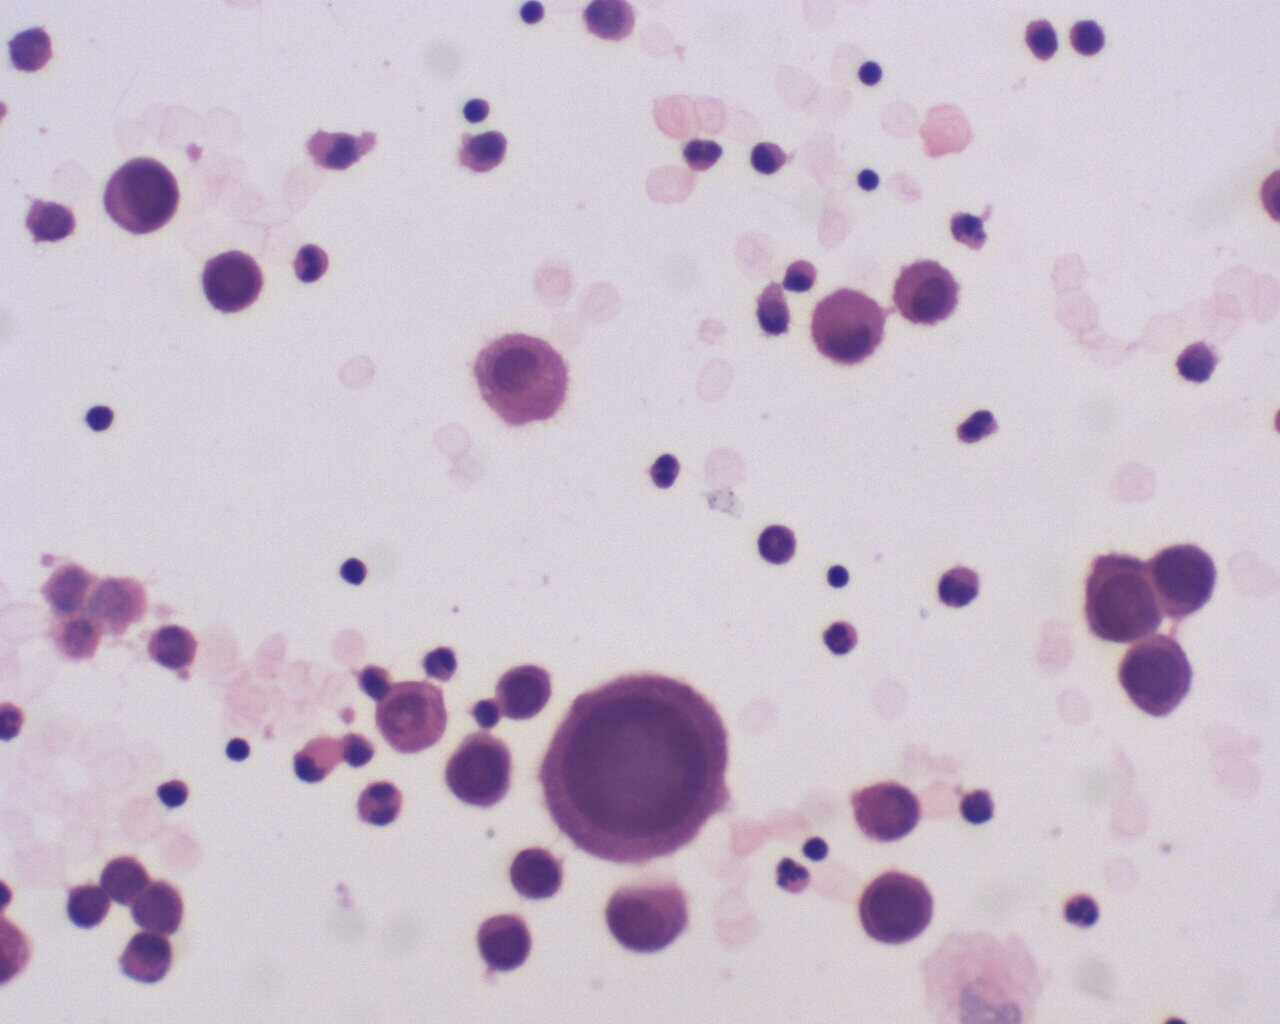ab: (540, 668, 738, 860), (1078, 549, 1169, 645), (96, 154, 184, 242), (1115, 632, 1200, 720), (600, 876, 690, 954), (855, 868, 936, 949), (1149, 536, 1216, 615), (443, 734, 514, 808), (197, 247, 269, 319)
lymph: (335, 550, 380, 596), (80, 399, 123, 441), (853, 51, 890, 90), (823, 560, 862, 598), (222, 730, 258, 770), (512, 1, 550, 29)
meso: (467, 327, 572, 433), (804, 281, 888, 372), (891, 250, 965, 333), (376, 679, 451, 754)
neutro: (1060, 885, 1100, 937), (641, 450, 689, 493), (290, 240, 330, 287), (774, 854, 813, 898), (823, 618, 866, 656)
